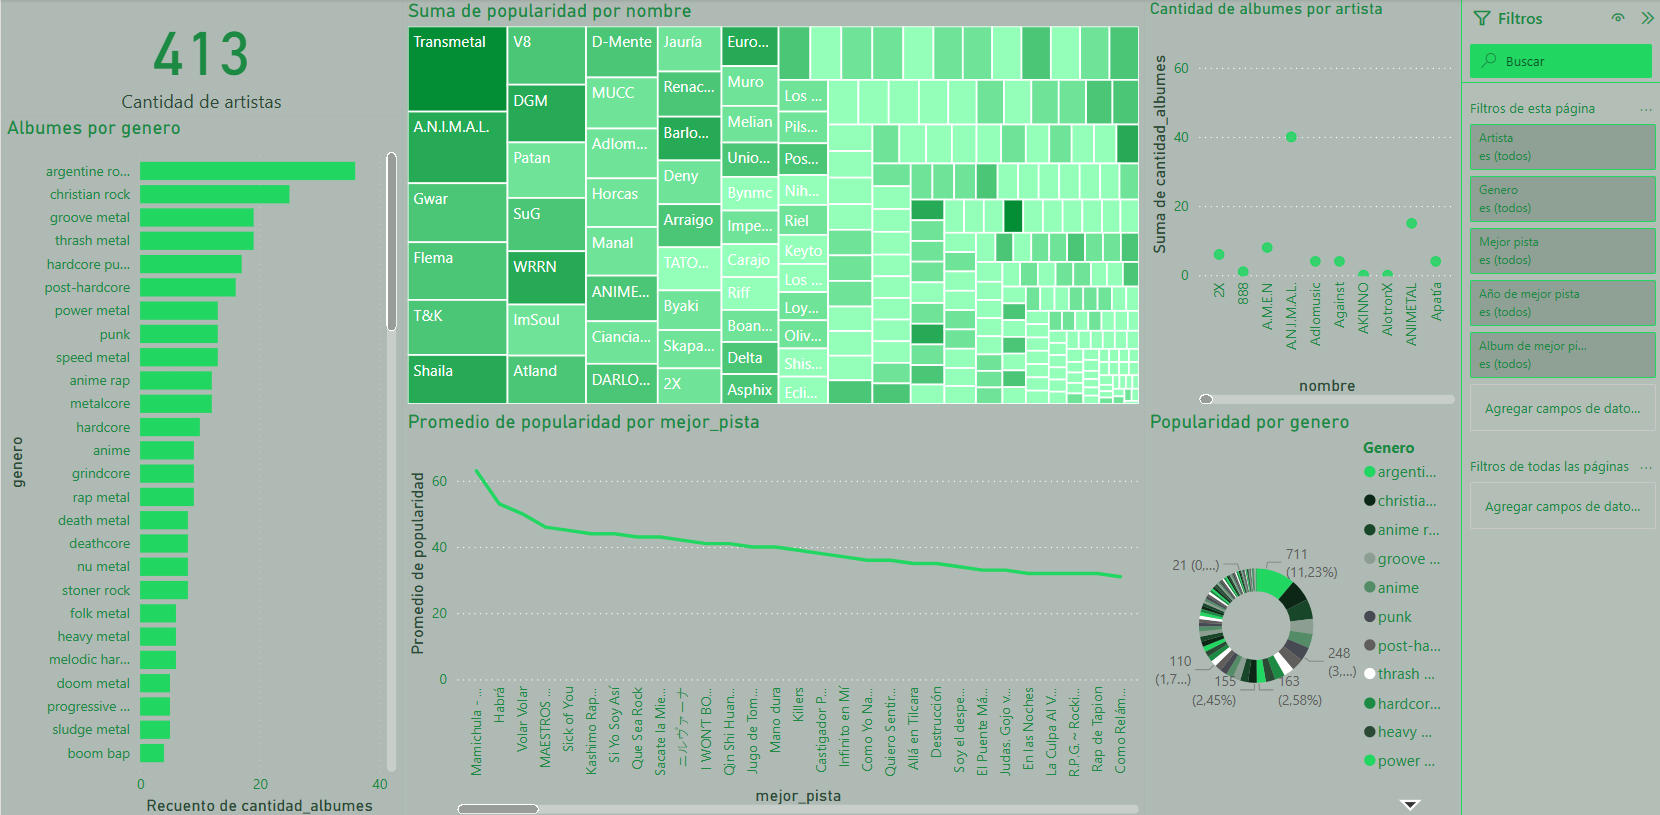

This screenshot's page, from the dashboard's own definition file:
{"tool":"powerbi","page":{"name":"Metal","canvas":[1280,720],"ordinal":0},"visuals":[{"type":"clusteredBarChart","title":"Albumes por genero","fields":{"Category":["metal_todo (2).genero"],"Y":["metal_todo (2).cantidad_albumes"]},"box":[0,102.6,351.6,617.2],"z":0},{"type":"lineChart","fields":{"Category":["metal_todo (2).mejor_pista"],"Y":["metal_todo (2).popularidad"]},"box":[351.6,360.3,650.5,359.5],"z":1000},{"type":"treemap","fields":{"Group":["metal_todo (2).nombre"],"Values":["metal_todo (2).popularidad"]},"box":[351.6,0,650.5,360.3],"z":2000},{"type":"donutChart","title":"Popularidad por genero","fields":{"Y":["metal_todo (2).popularidad"],"Category":["metal_todo (2).genero"]},"box":[1002.1,360.3,277.9,359.5],"z":3000},{"type":"scatterChart","title":"Cantidad de albumes por artista","fields":{"Y":["metal_todo (2).cantidad_albumes"],"X":["metal_todo (2).nombre"]},"box":[1002.1,0,277.9,360.3],"z":4000},{"type":"card","fields":{"Values":["metal_todo (2).nombre"]},"box":[0,0,351.6,102.6],"z":5000}]}

Visuals, with their boxes on the page's 1280x720 design canvas (x1, y1, x2, y2). These are canvas units, not pixel positions in the 1660x815 screenshot, which may show the page scaled, cropped or inside an application window:
"Albumes por genero" clusteredBarChart: l=0, t=103, r=352, b=720
lineChart - metal_todo (2).mejor_pista x metal_todo (2).popularidad: l=352, t=360, r=1002, b=720
treemap - metal_todo (2).nombre x metal_todo (2).popularidad: l=352, t=0, r=1002, b=360
"Popularidad por genero" donutChart: l=1002, t=360, r=1280, b=720
"Cantidad de albumes por artista" scatterChart: l=1002, t=0, r=1280, b=360
card - metal_todo (2).nombre: l=0, t=0, r=352, b=103
